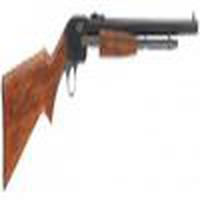gun: (2, 13, 199, 157)
